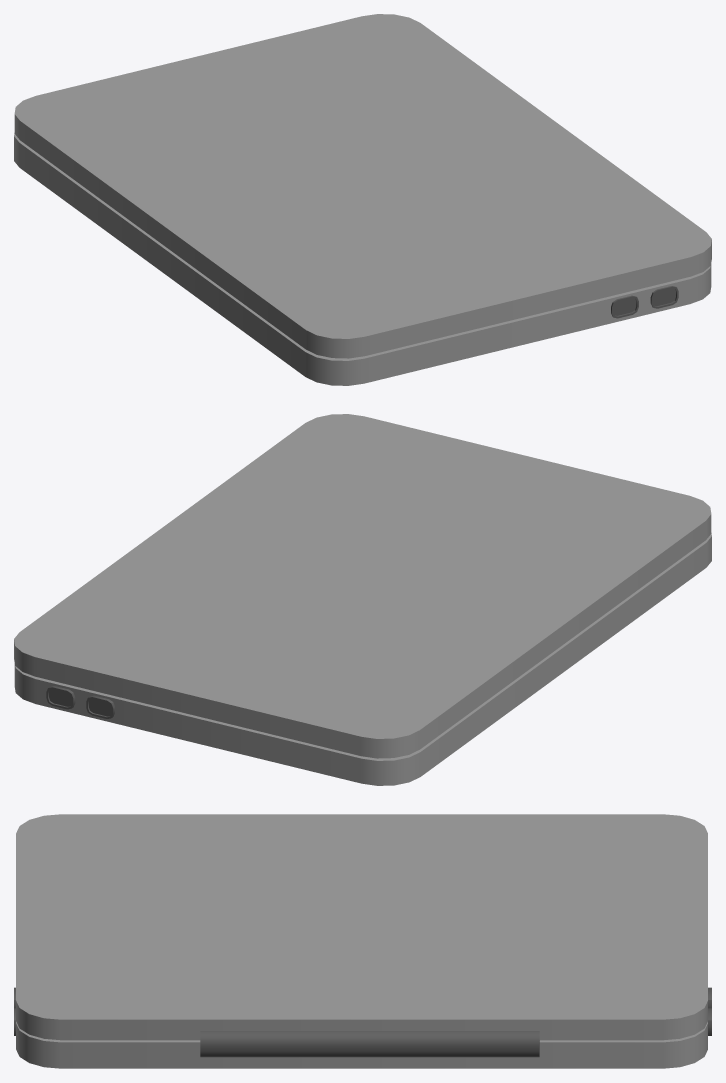
Rendered from Laptop02.fbx.
3 views of the same model, one above another, from view 1: azimuth 30°, elevation 25°; view 2: azimuth 150°, elevation 25°; view 3: azimuth 270°, elevation 25° (orthographic). The views are drawn at different scales.
Parts seen in each view (by area): view 1: Laptop02; view 2: Laptop02; view 3: Laptop02.
Boxes of the visible parts, left/top/right/bottom form: Laptop02: left=14, top=14, right=711, bottom=385; Laptop02: left=14, top=414, right=711, bottom=785; Laptop02: left=14, top=814, right=711, bottom=1068.
Bounding box in the file's own units: 0.3072 × 0.4297 × 0.042.
